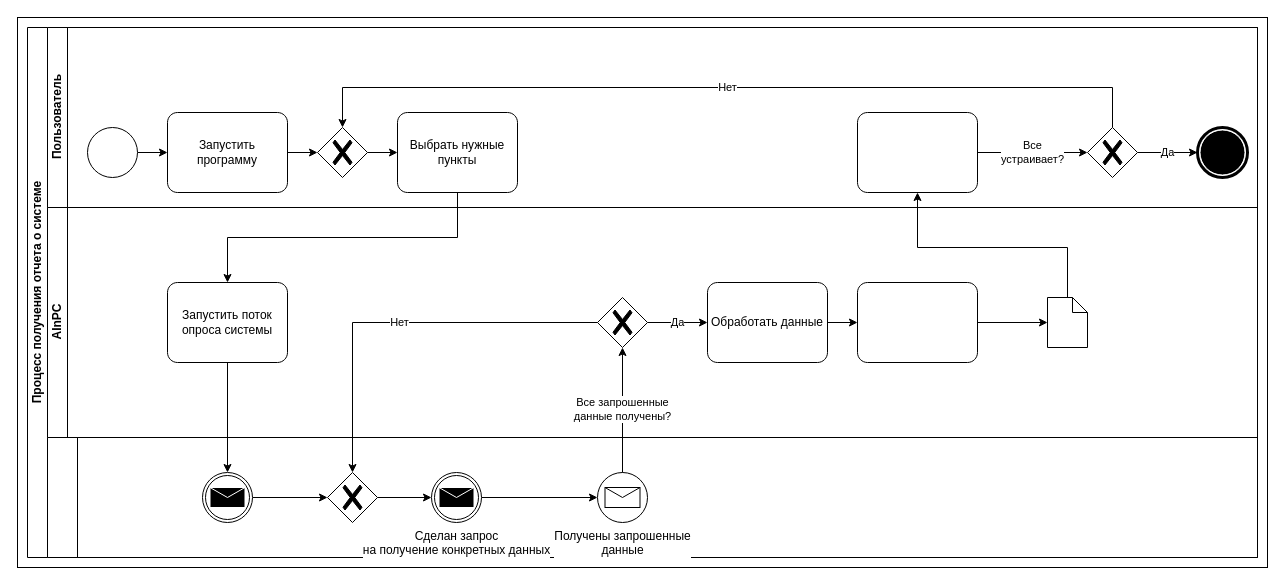
The diagram is 1285 pixels wide and 585 high, and some of its shapes have lost their labels. Here are the shapes that lost their labels. From the top down, the box of each, then its label:
(856, 112, 978, 192): Отсмотреть отчет
(856, 282, 978, 362): Выгрузить отчет
(1046, 296, 1088, 348): AInPC Report
(202, 472, 252, 522): Передан список всех нужных данных
(46, 436, 1258, 558): Операционная система
